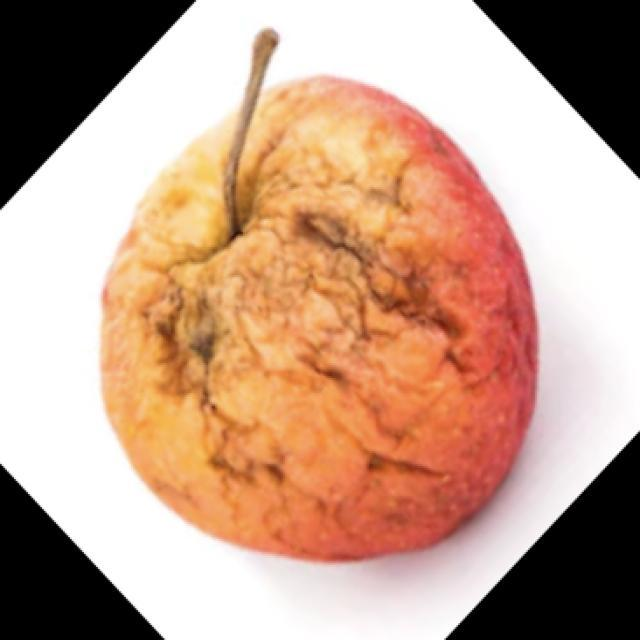Rotten: (100, 68, 552, 560)
